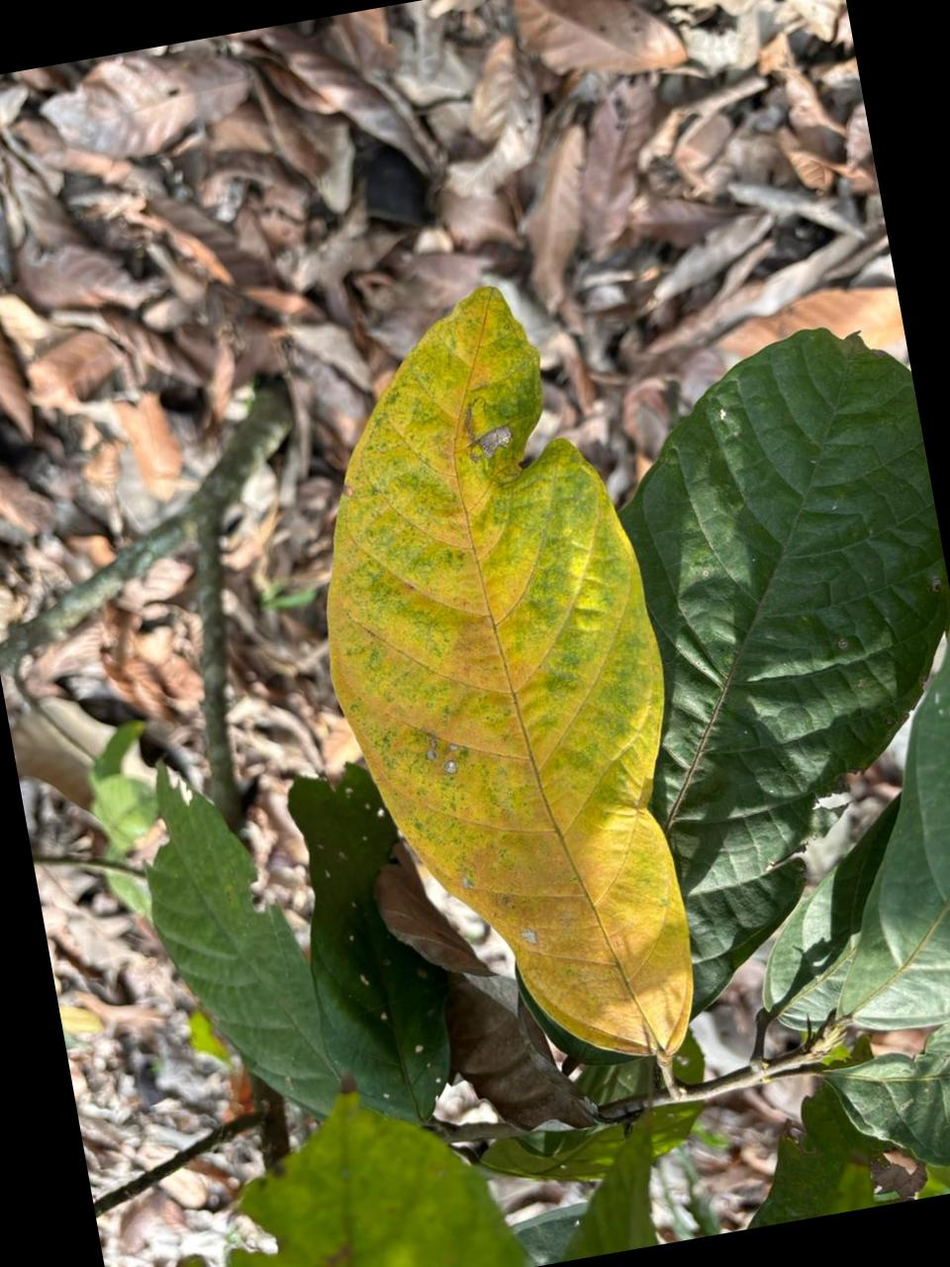Fosforo: (328, 289, 693, 1061)
